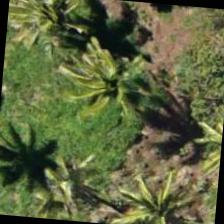Kelapa_Sawit: (57, 25, 156, 124), (93, 151, 190, 223), (6, 0, 86, 48)
